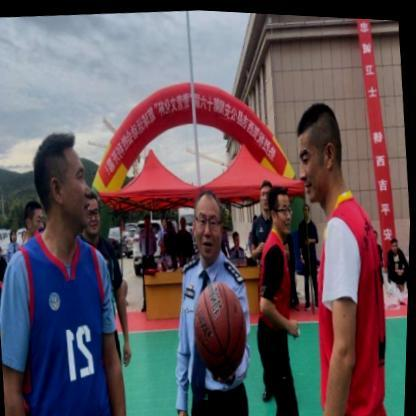basketball: (191, 277, 253, 379)
